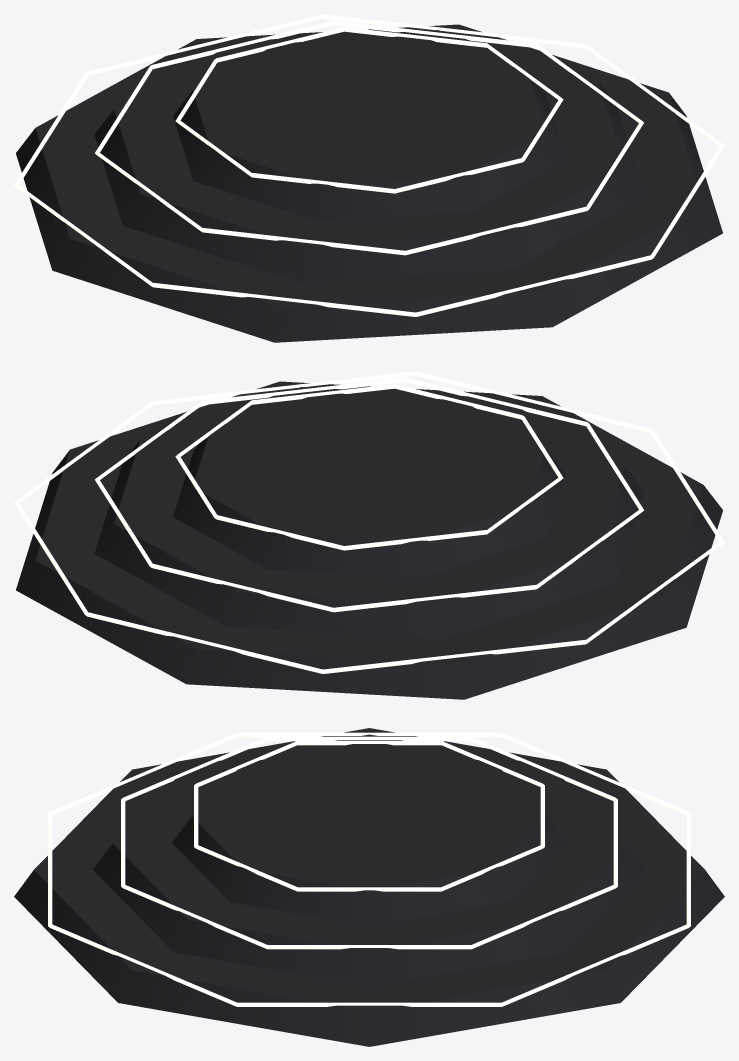
File: pedestal.glb
The picture shows the model from 3 angles, top to bottom: view 1: azimuth 30°, elevation 25°; view 2: azimuth 150°, elevation 25°; view 3: azimuth 270°, elevation 25°; orthographic projection. The views are drawn at different scales.
Visible parts, largest first — view 1: steps, trim; view 2: steps, trim; view 3: steps, trim.
Part boxes in pixels (bbox=[...]): steps: bbox=[16, 24, 722, 342]; trim: bbox=[14, 14, 724, 316]; steps: bbox=[16, 381, 722, 699]; trim: bbox=[14, 371, 724, 673]; steps: bbox=[14, 728, 724, 1046]; trim: bbox=[48, 732, 690, 1006].
Size of the model in its own units: 7.2 by 0.925 by 7.2.
